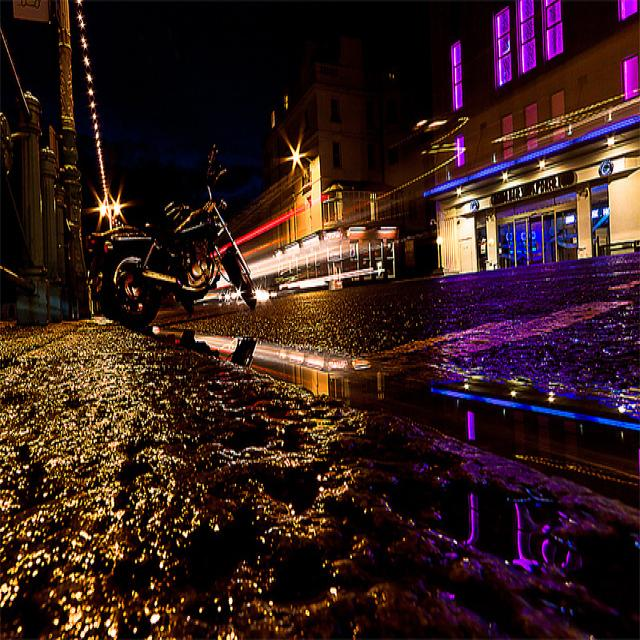Motorbike: (88, 198, 291, 342)
